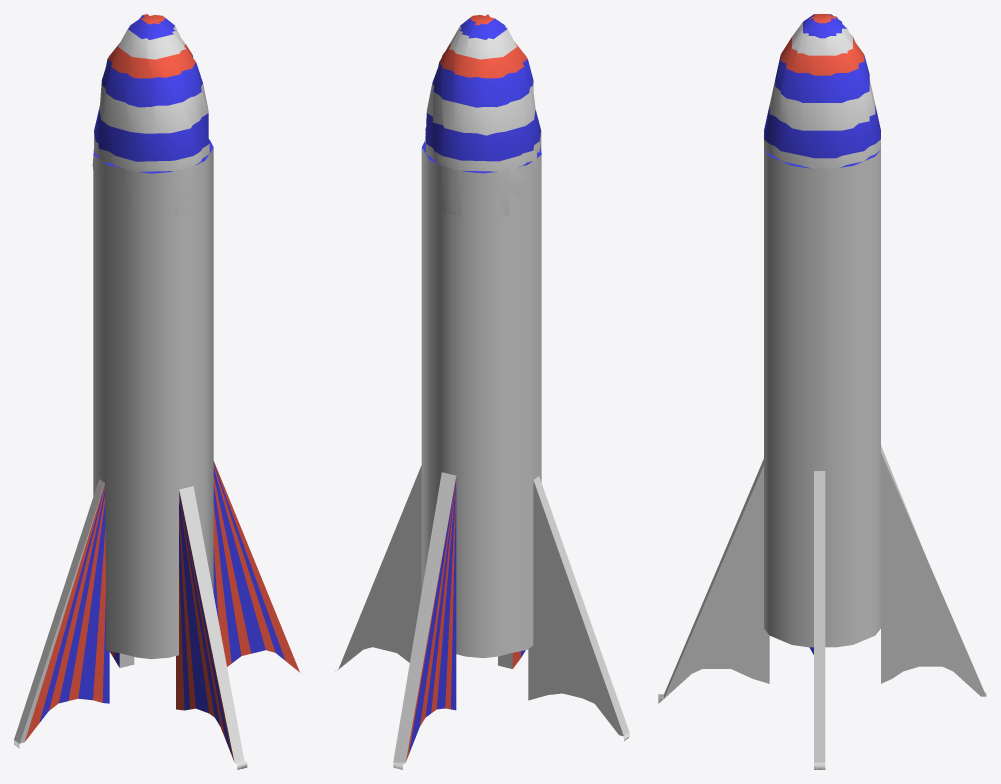
Rendered from missile.obj.
The picture shows the model from 3 angles, left to right: view 1: azimuth 30°, elevation 25°; view 2: azimuth 150°, elevation 25°; view 3: azimuth 270°, elevation 25°; orthographic projection.
Parts seen in each view (by area): view 1: Line03; view 2: Line03; view 3: Line03.
Part boxes in pixels (x1,y1,x2,y2): Line03: (14, 14, 302, 769); Line03: (335, 14, 629, 769); Line03: (658, 14, 986, 769).
Size of the model in its own units: 0.59 by 1.35 by 0.59.
